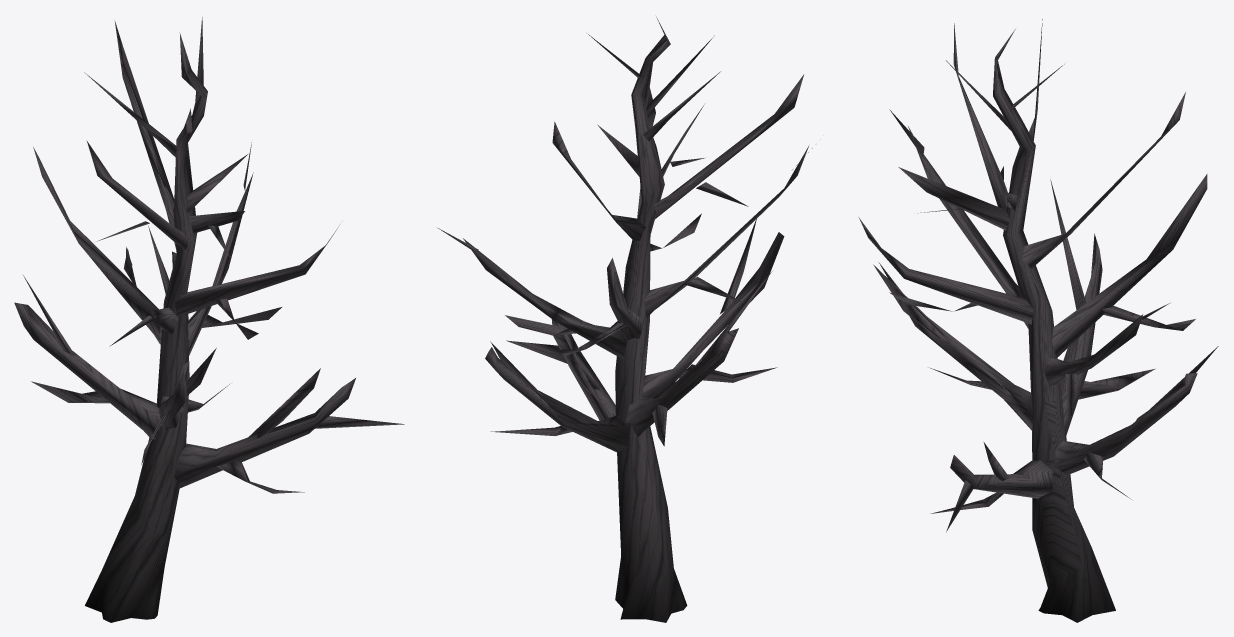
The model's file is DeadTree_2.low.gltf.
3 renders of one model, left to right at view 1: azimuth 30°, elevation 25°; view 2: azimuth 150°, elevation 25°; view 3: azimuth 270°, elevation 25°, orthographic. The views are drawn at different scales.
Parts seen in each view (by area): view 1: DeadTree_2; view 2: DeadTree_2; view 3: DeadTree_2.
Part boxes in pixels (x1,y1,x2,y2): DeadTree_2: [14, 17, 404, 622]; DeadTree_2: [438, 17, 812, 622]; DeadTree_2: [858, 19, 1218, 622].
Bounding box in the file's own units: 6.35 × 10.78 × 5.98.
1 material, 1 textured.
